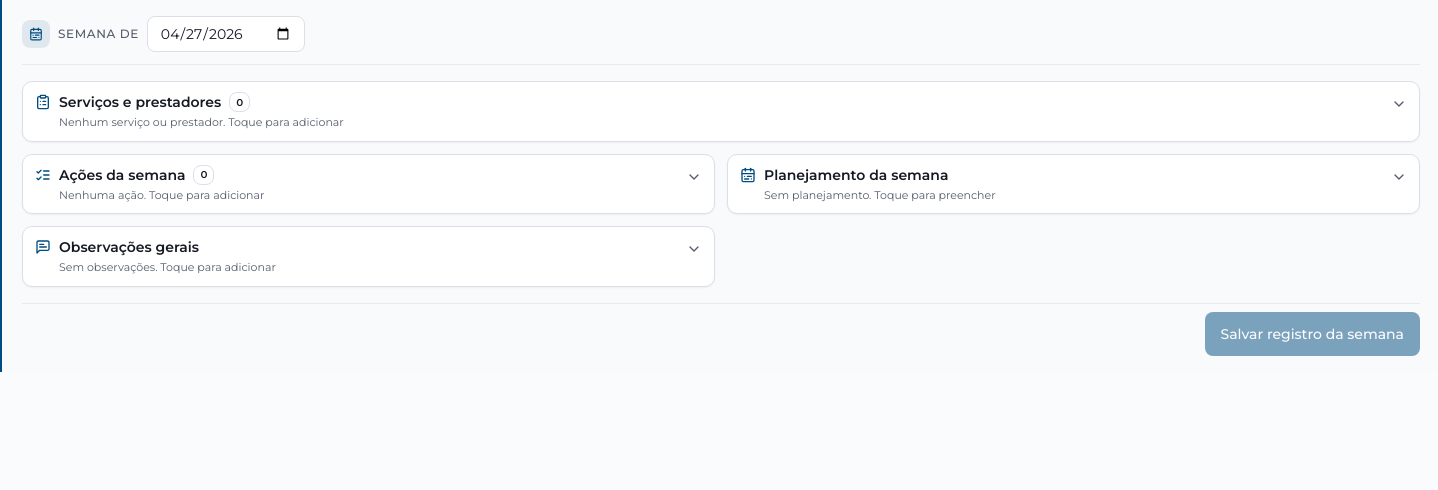
Test: DailyLogInline — seção unificada Serviços e prestadores › mostra microcopy de estado vazio quando não há serviços nem prestadores
This screenshot has width=1438, height=490.
Check: the text "Nenhum serviço ou prestador. Toque para adicionar" is shown, box [59,115,344,129]
Click the button with aria-label "Expandir Serviços e prestadores" at coordinates (140, 102), box [23,82,1419,140]
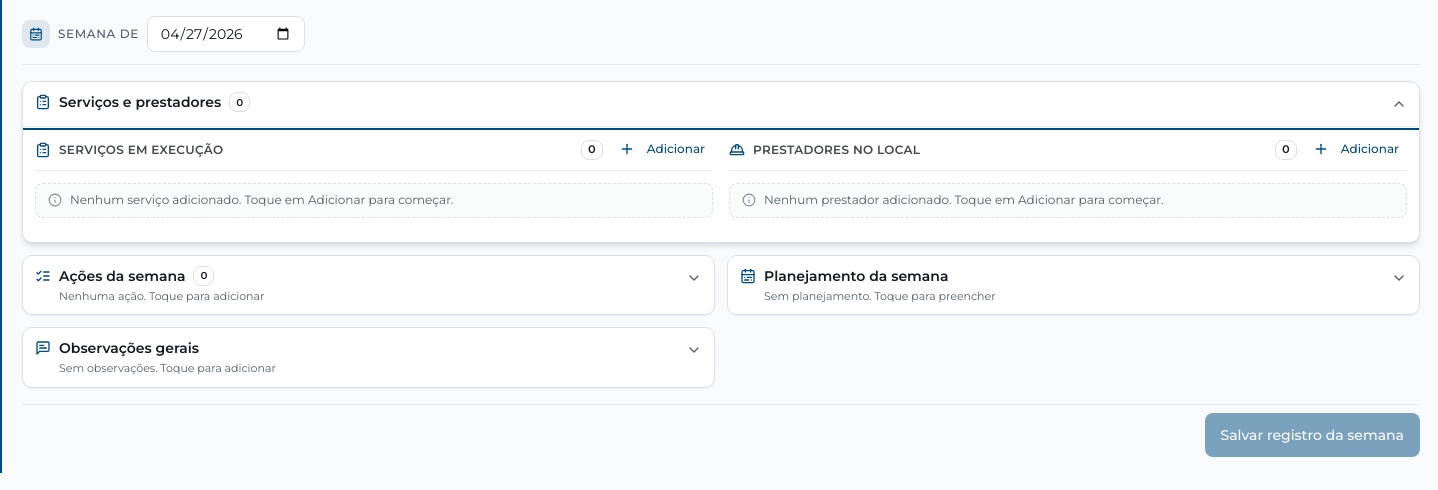
Check: the text "Nenhum serviço adicionado. Toque em Adicionar para começar." is shown, box [70,192,453,208]
Check: the text "Nenhum prestador adicionado" is shown, box [764,192,1164,207]
